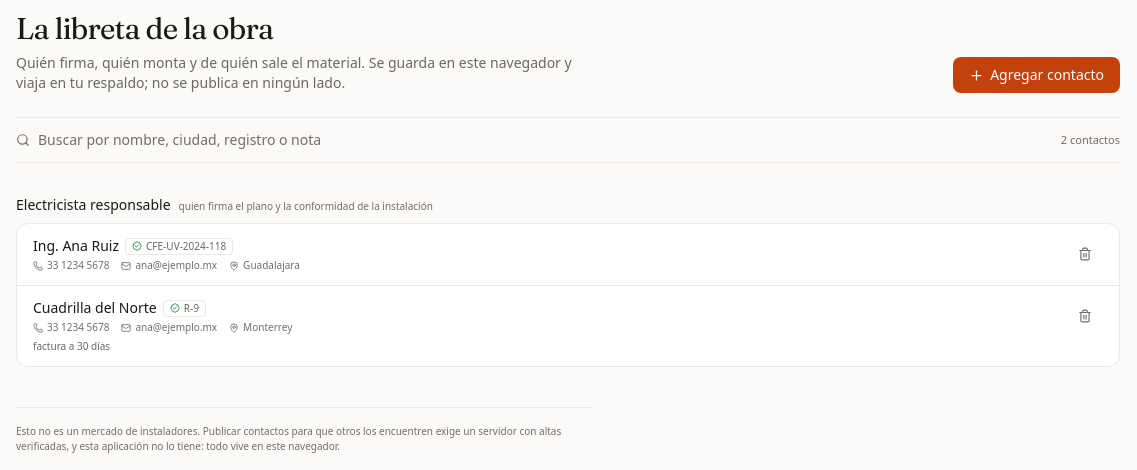
Test: buscar y quitar › busca por nombre, ciudad, registro y nota
Type "Monterrey" into the field named "Buscar en la libreta" at (543, 140), box [38,130,1049,150]
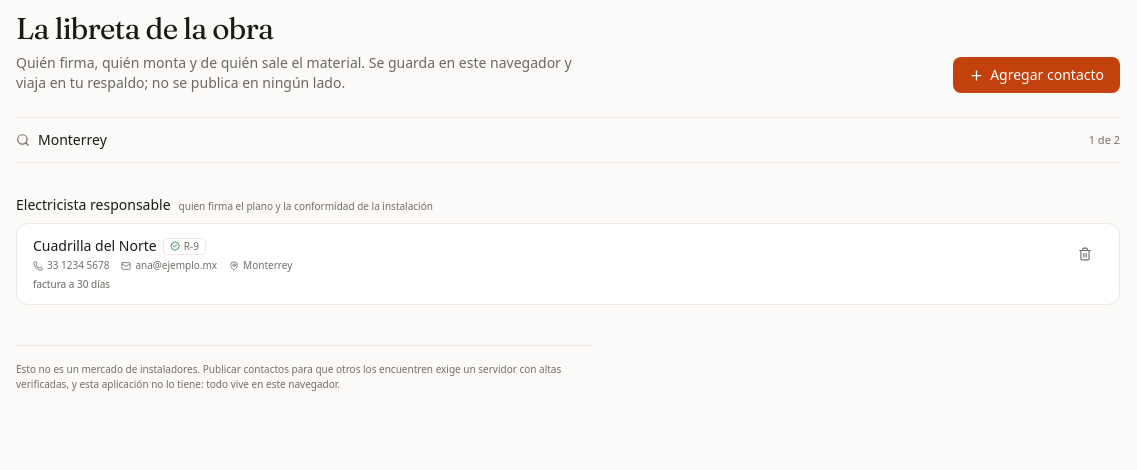
Expected: the text "Cuadrilla del Norte" is shown, [33,236,157,256]
Expected: the text "Ing. Ana Ruiz" is gone
Replace the text in the field named "Buscar en la libreta" with "CFE-UV-2024" at (557, 140), box [38,130,1077,150]
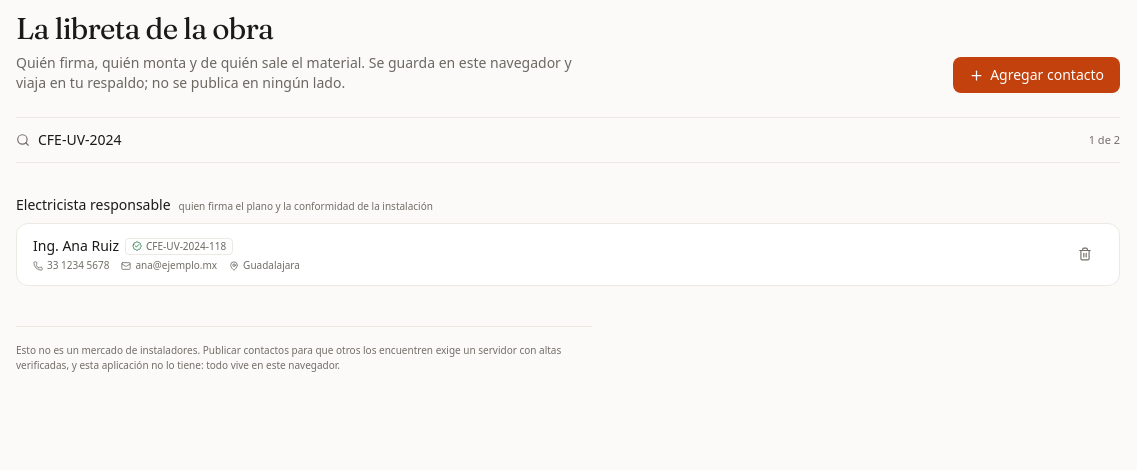
Expected: the text "Ing. Ana Ruiz" is shown, [33,236,119,256]
Replace the text in the field named "Buscar en la libreta" with "30 días" at (557, 140), box [38,130,1077,150]
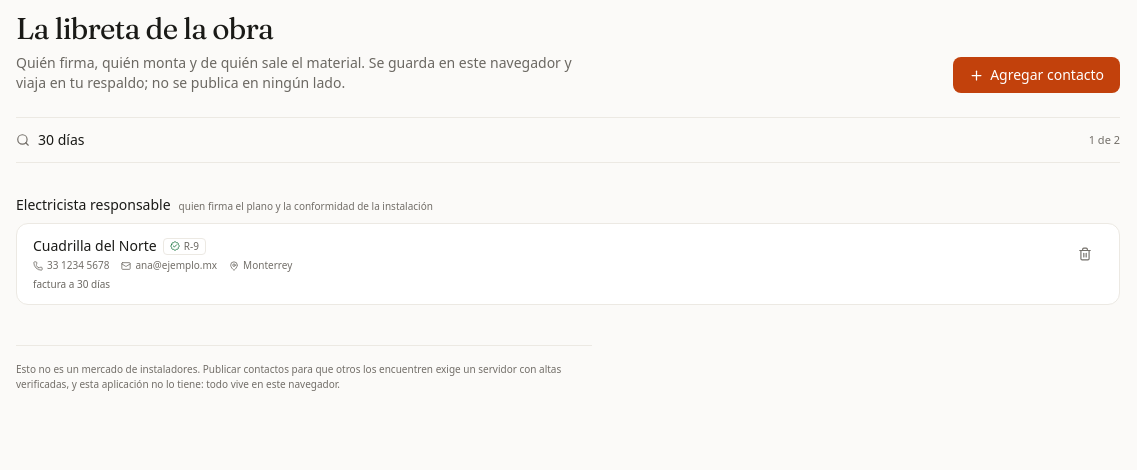
Expected: the text "Cuadrilla del Norte" is shown, [33,236,157,256]
